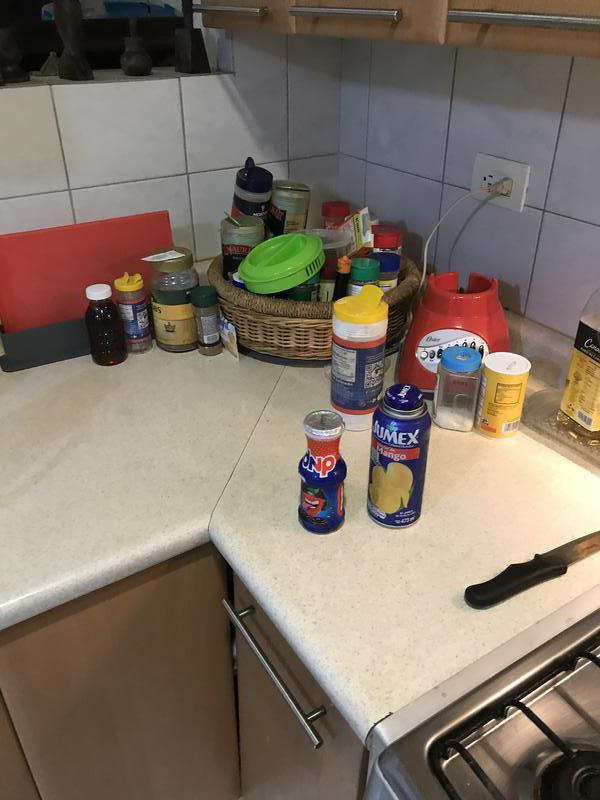danup: (299, 409, 347, 534)
jugo_jumex: (366, 385, 427, 529)
